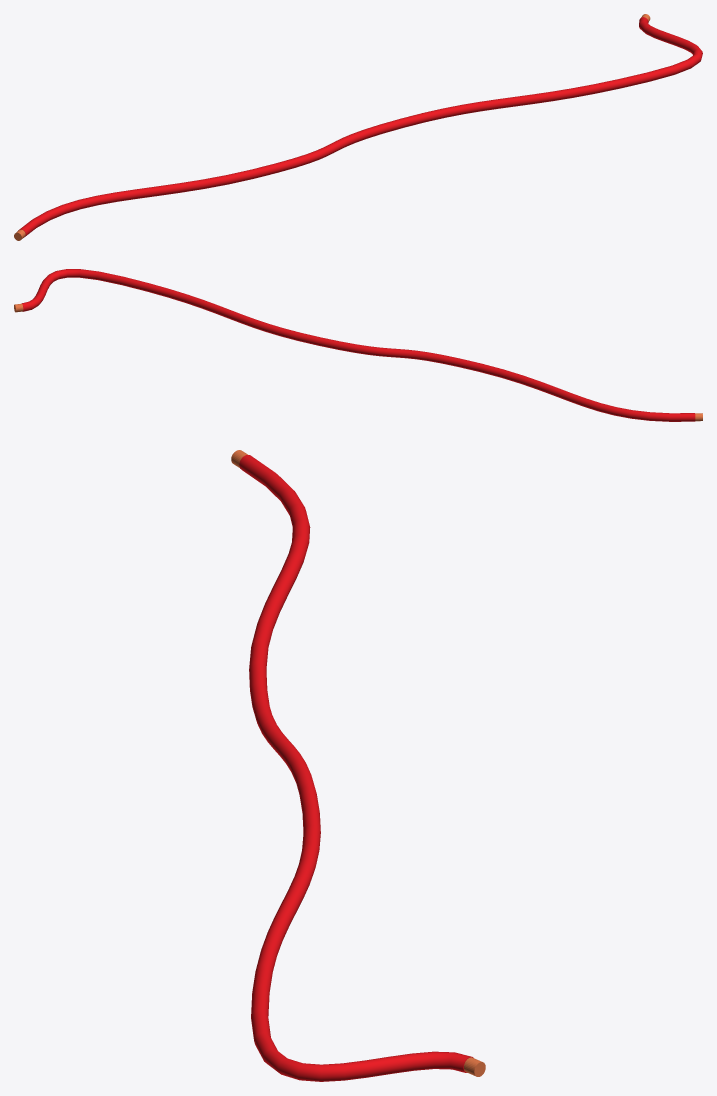
Rendered from kabel1.fbx.
The picture shows the model from 3 angles, top to bottom: view 1: azimuth 30°, elevation 25°; view 2: azimuth 150°, elevation 25°; view 3: azimuth 270°, elevation 25°; orthographic projection. The views are drawn at different scales.
Parts seen in each view (by area): view 1: BézierCurve; view 2: BézierCurve; view 3: BézierCurve.
Part boxes in pixels (box(x1,y1,x2,y2)): BézierCurve: box(18, 17, 702, 237); BézierCurve: box(22, 269, 695, 421); BézierCurve: box(239, 455, 473, 1081).
Size of the model in its own units: 33.13 by 0.3927 by 5.74.
